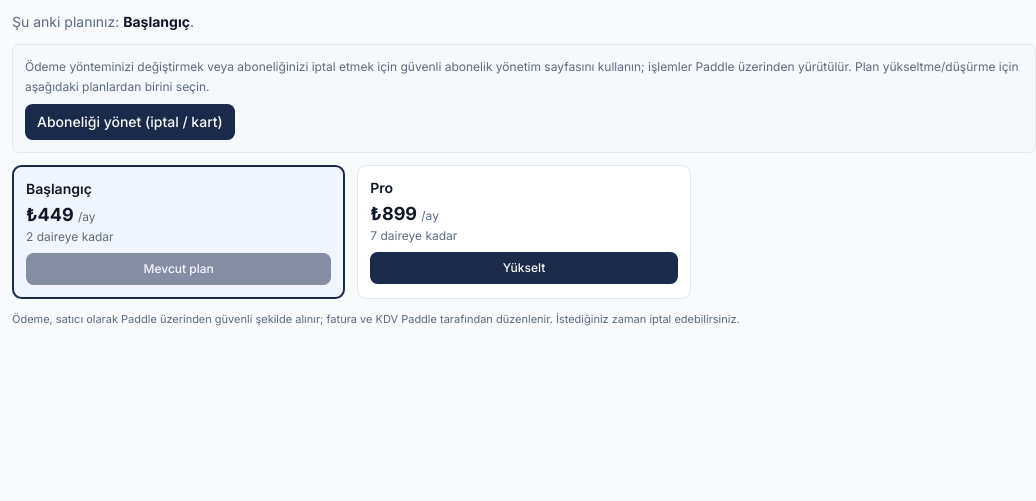
Test: PaddlePlans — plan değişikliği onayı › 🚨 P6: başarılı (200) ama gövde okunamıyor → 'planınız değişmedi' DENMEZ; 'onay bekleniyor' görünür, panel kapanır, sayfa yenilenir
Click the button "Yükselt".
click(524, 268)  # box [370,252,678,284]
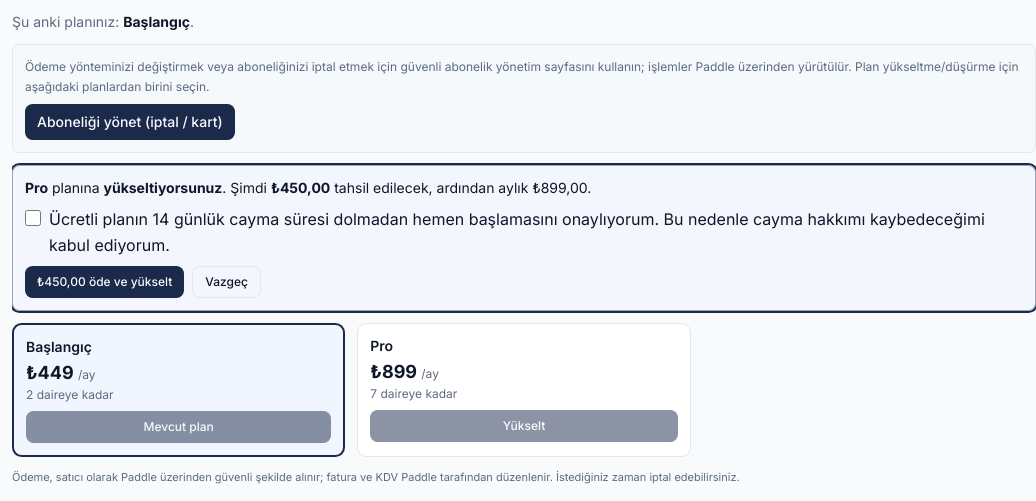
Click the checkbox named "consent-upgrade-immediateStart".
click(33, 218)  # box [25,210,41,226]
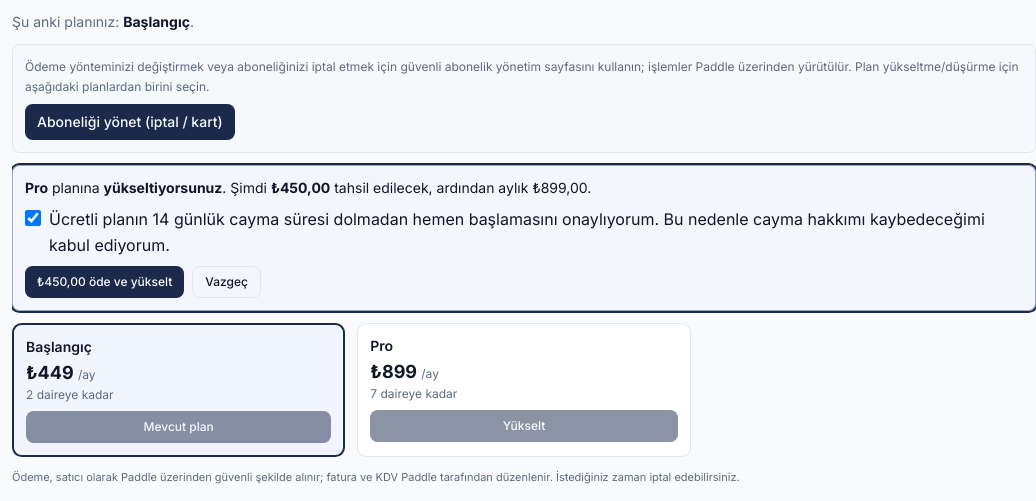
Click the button "₺450,00 öde ve yükselt".
click(105, 282)  # box [25,266,184,298]
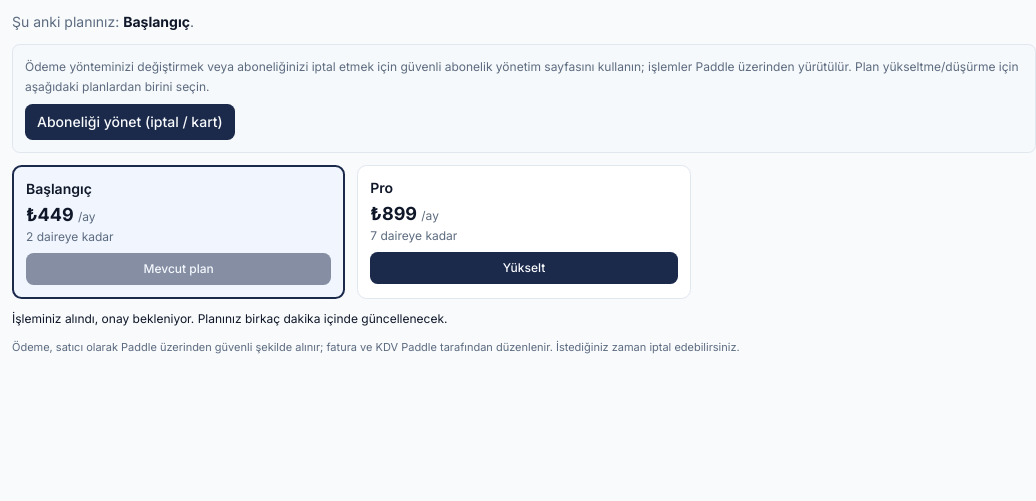
expect the text "onay bekleniyor" is shown: met, box [12,311,448,326]
expect the button "₺450,00 öde ve yükselt" is gone: met
